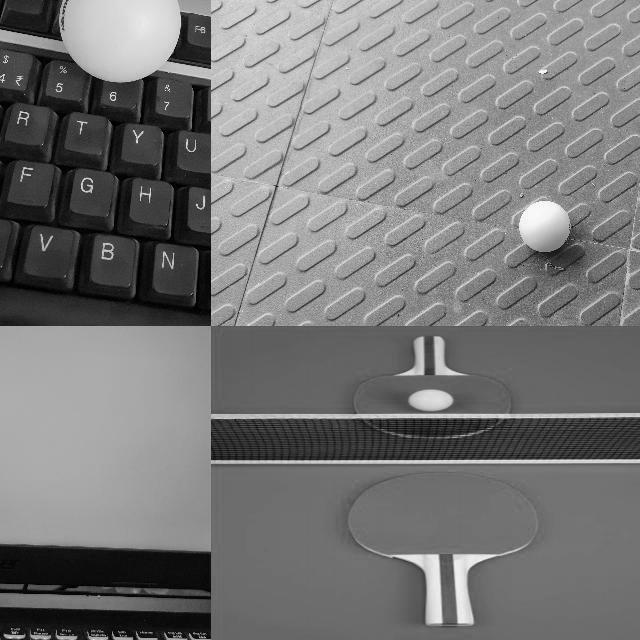ping-pong-ball: (59, 0, 180, 88), (520, 200, 572, 252), (409, 390, 452, 410)
